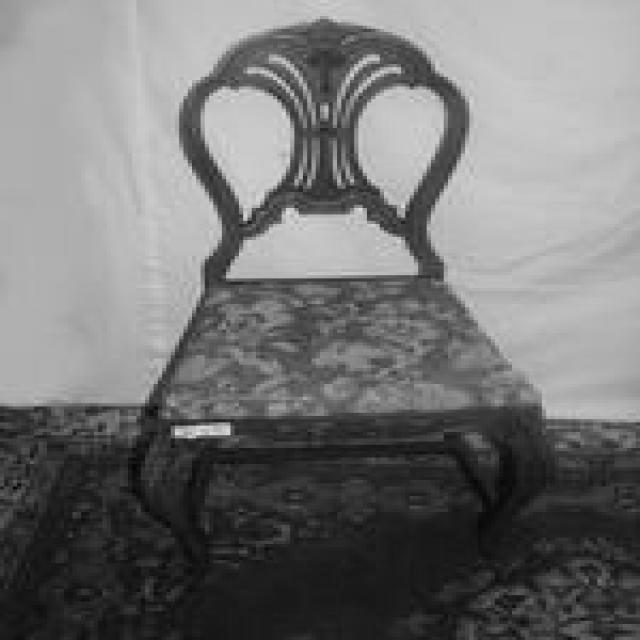chair: (128, 13, 560, 585)
